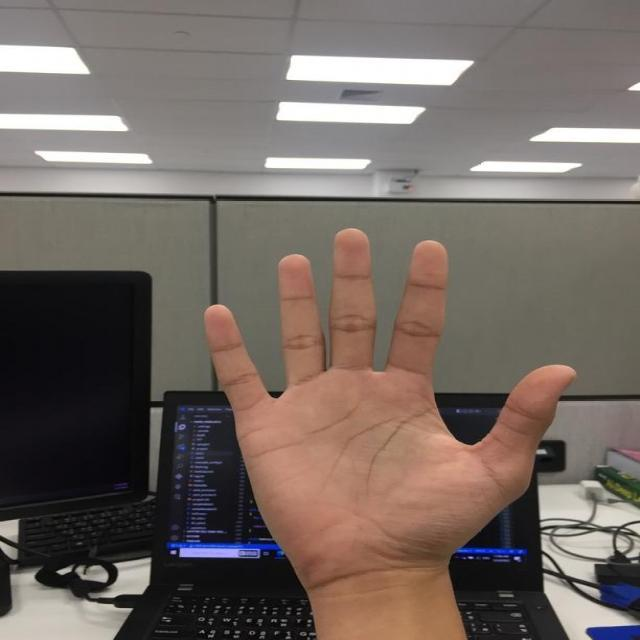hand: (196, 225, 579, 574)
